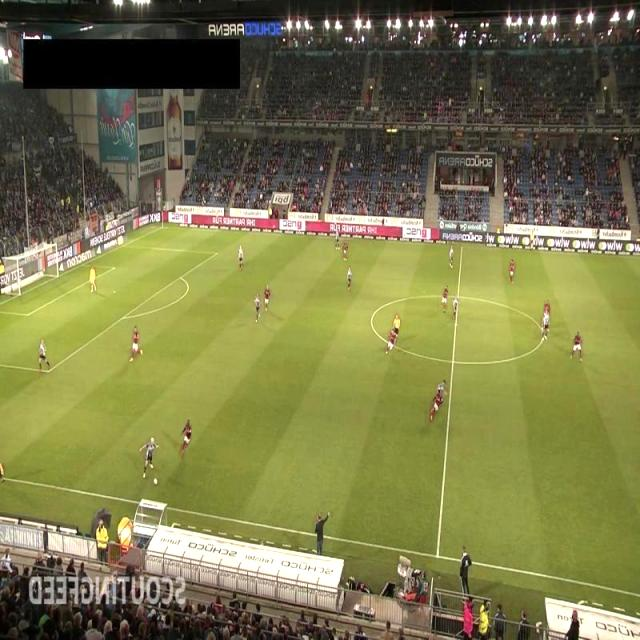bigarea_bottom_inner: (42, 366, 54, 377)
bigarea_top_inner: (212, 248, 222, 258)
bigarea_top_outter: (118, 241, 129, 252)
bottom_arc_area_intersection: (118, 312, 128, 323)
corner: (158, 222, 168, 233)
halfcircle_bottom: (448, 354, 459, 366)
halfcircle_top: (453, 290, 464, 301)
midline_bottom_intersection: (431, 548, 444, 563)
midline_top_intersection: (458, 240, 468, 251)
smallarea_bottom_inner: (22, 310, 33, 321)
smallarea_top_inner: (108, 262, 120, 274)
smallarea_top_outter: (77, 260, 88, 271)
top_arc_area_intersection: (175, 272, 186, 284)
